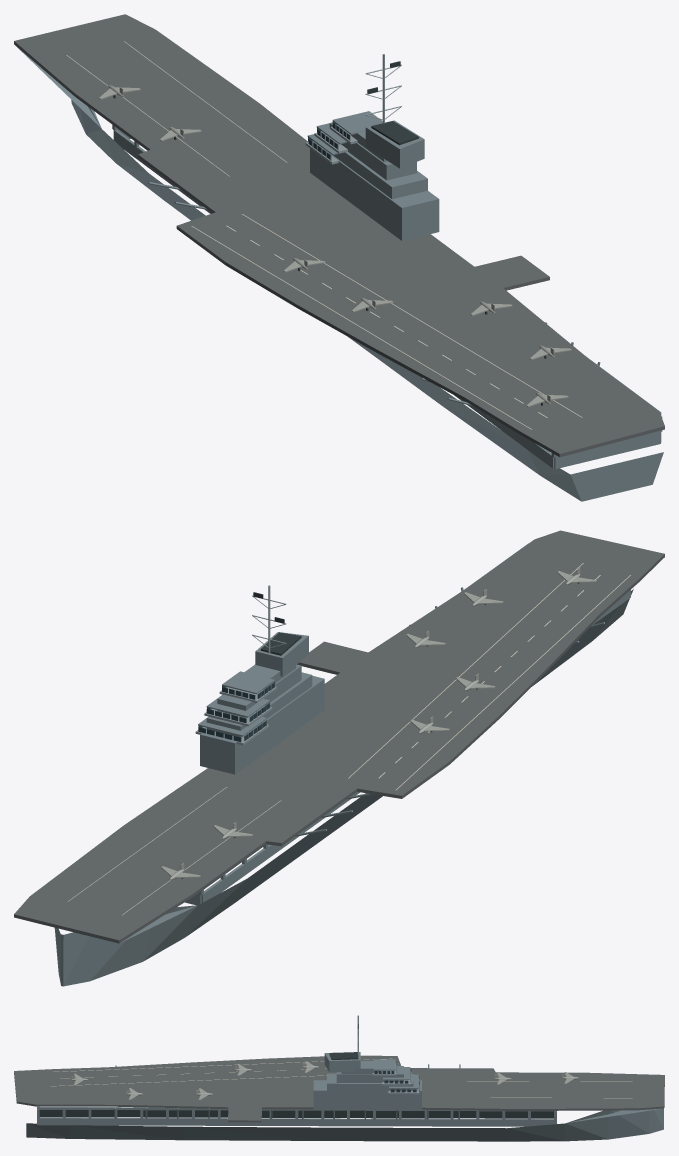
Rendered from uss-yorktown-cv10-near.glb.
3 views of the same model, one above another, from view 1: azimuth 30°, elevation 25°; view 2: azimuth 150°, elevation 25°; view 3: azimuth 270°, elevation 25° (orthographic). The views are drawn at different scales.
Visible parts, largest first — view 1: uss-yorktown-cv10-0-deckPaint, uss-yorktown-cv10-0-hull, uss-yorktown-cv10-0-aircraft, uss-yorktown-cv10-0-paint, uss-yorktown-cv10-0-metal, uss-yorktown-cv10-0-dark; view 2: uss-yorktown-cv10-0-deckPaint, uss-yorktown-cv10-0-hull, uss-yorktown-cv10-0-aircraft, uss-yorktown-cv10-0-metal, uss-yorktown-cv10-0-paint, uss-yorktown-cv10-0-glass, uss-yorktown-cv10-0-dark; view 3: uss-yorktown-cv10-0-deckPaint, uss-yorktown-cv10-0-hull, uss-yorktown-cv10-0-dark, uss-yorktown-cv10-0-aircraft, uss-yorktown-cv10-0-paint, uss-yorktown-cv10-0-metal, uss-yorktown-cv10-0-glass.
Part boxes in pixels (bbox=[...]): uss-yorktown-cv10-0-deckPaint: bbox=[14, 14, 664, 457]; uss-yorktown-cv10-0-hull: bbox=[16, 46, 663, 501]; uss-yorktown-cv10-0-aircraft: bbox=[99, 85, 571, 407]; uss-yorktown-cv10-0-paint: bbox=[66, 41, 582, 429]; uss-yorktown-cv10-0-metal: bbox=[305, 54, 401, 164]; uss-yorktown-cv10-0-dark: bbox=[113, 61, 546, 405]; uss-yorktown-cv10-0-deckPaint: bbox=[14, 530, 664, 943]; uss-yorktown-cv10-0-hull: bbox=[54, 543, 633, 986]; uss-yorktown-cv10-0-aircraft: bbox=[161, 568, 596, 880]; uss-yorktown-cv10-0-metal: bbox=[195, 585, 286, 745]; uss-yorktown-cv10-0-paint: bbox=[68, 563, 630, 915]; uss-yorktown-cv10-0-glass: bbox=[198, 682, 274, 741]; uss-yorktown-cv10-0-dark: bbox=[181, 582, 579, 889]; uss-yorktown-cv10-0-deckPaint: bbox=[14, 1055, 664, 1122]; uss-yorktown-cv10-0-hull: bbox=[26, 1052, 663, 1141]; uss-yorktown-cv10-0-dark: bbox=[39, 1024, 553, 1118]; uss-yorktown-cv10-0-aircraft: bbox=[71, 1061, 578, 1100]; uss-yorktown-cv10-0-paint: bbox=[51, 1058, 632, 1098]; uss-yorktown-cv10-0-metal: bbox=[357, 1015, 419, 1094]; uss-yorktown-cv10-0-glass: bbox=[374, 1061, 419, 1092].
Size of the model in its own units: 63.78 by 58 by 271.
